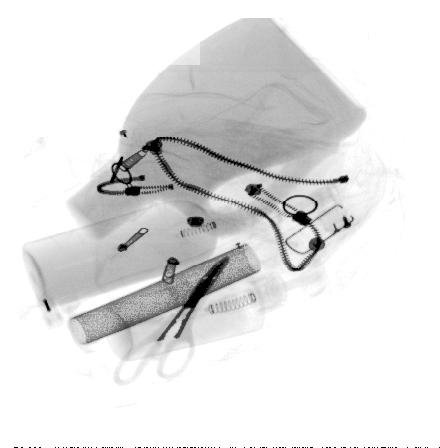Scissors: (116, 255, 231, 382)
